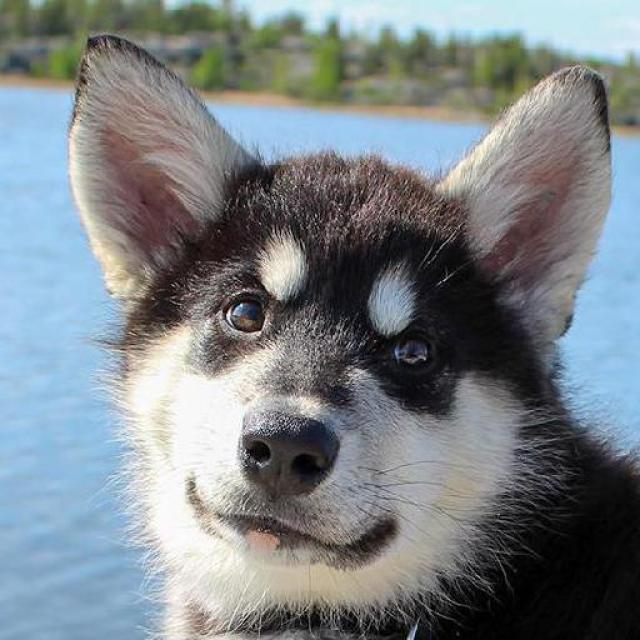puppy-dog: (68, 29, 640, 640)
